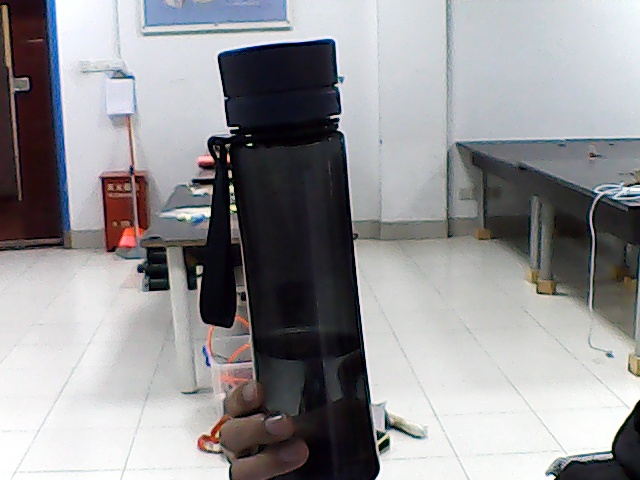cup: (252, 61, 341, 365)
